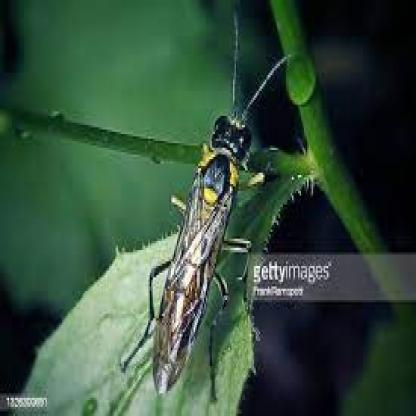sawfly: (121, 9, 298, 410)
